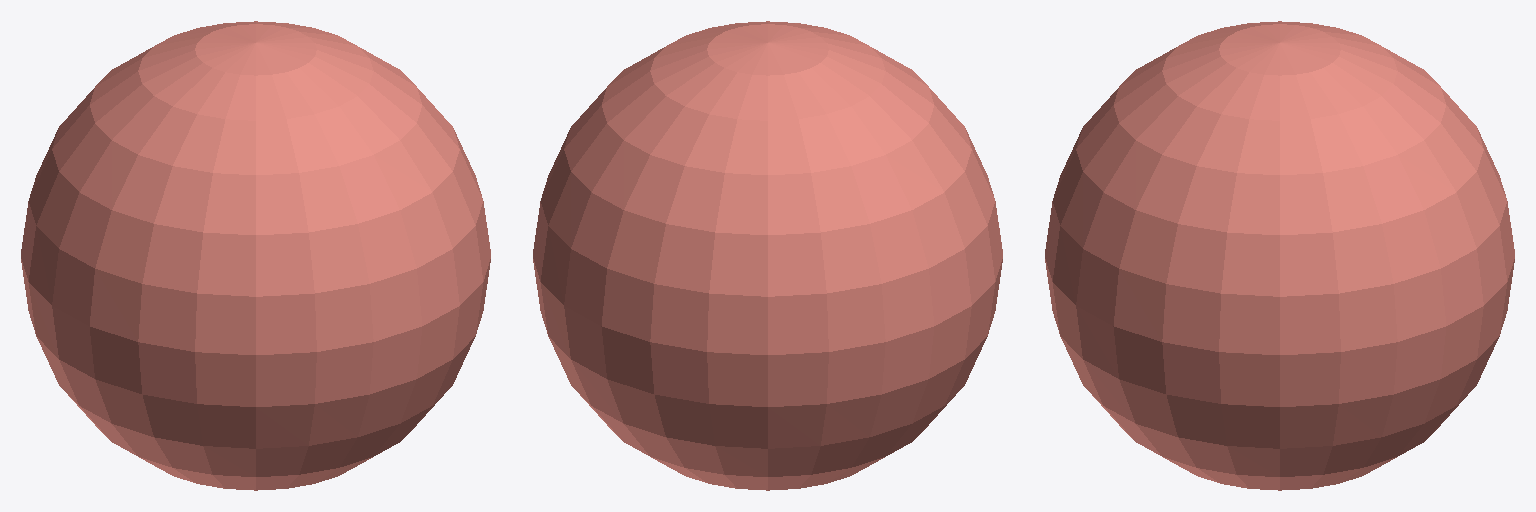
The model's file is tinker.obj.
The picture shows the model from 3 angles: view 1: azimuth 30°, elevation 25°; view 2: azimuth 150°, elevation 25°; view 3: azimuth 270°, elevation 25°; orthographic projection.
Parts seen in each view (by area): view 1: obj_0; view 2: obj_0; view 3: obj_0.
Part boxes in pixels (x1,y1,x2,y2): obj_0: (21, 21, 490, 490); obj_0: (533, 21, 1002, 490); obj_0: (1045, 21, 1514, 490).
Size of the model in its own units: 14 by 14 by 14.